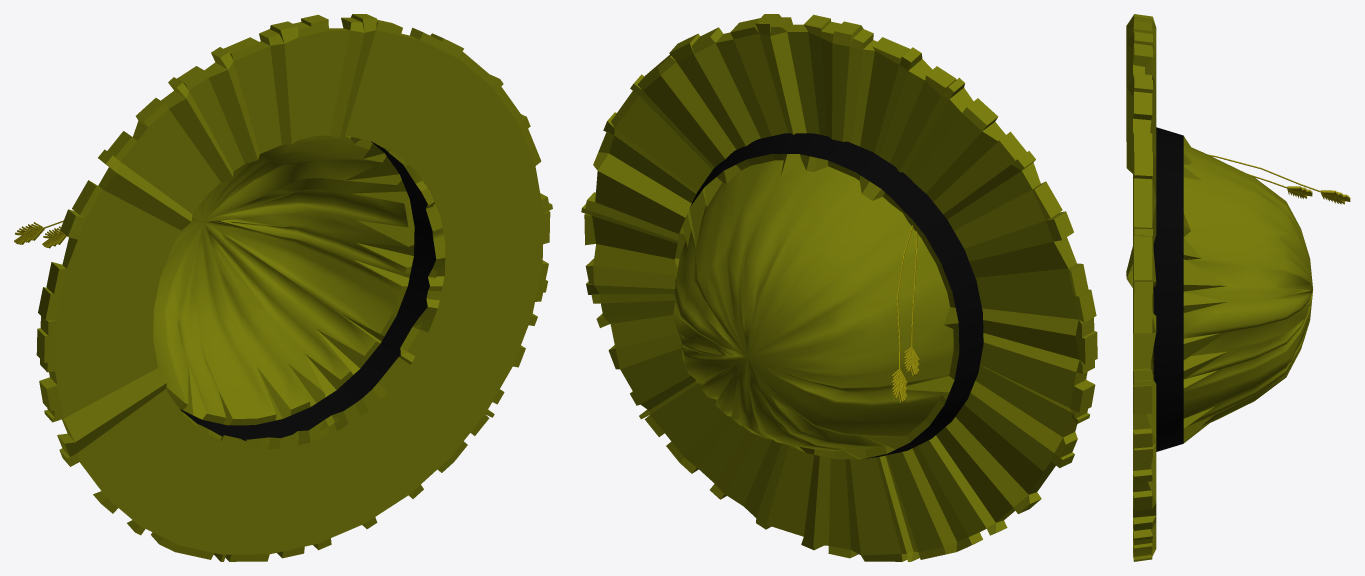
File: farmer.FBX
The picture shows the model from 3 angles, left to right: view 1: azimuth 30°, elevation 25°; view 2: azimuth 150°, elevation 25°; view 3: azimuth 270°, elevation 25°; orthographic projection. The views are drawn at different scales.
Visible parts, largest first — view 1: farmershat; view 2: farmershat; view 3: farmershat.
Boxes of the visible parts, box(x1,y1,x2,y2) form: farmershat: box(14, 14, 552, 561); farmershat: box(581, 14, 1097, 561); farmershat: box(1126, 14, 1350, 561).
Bounding box in the file's own units: 33.94 × 13.84 × 33.75.
